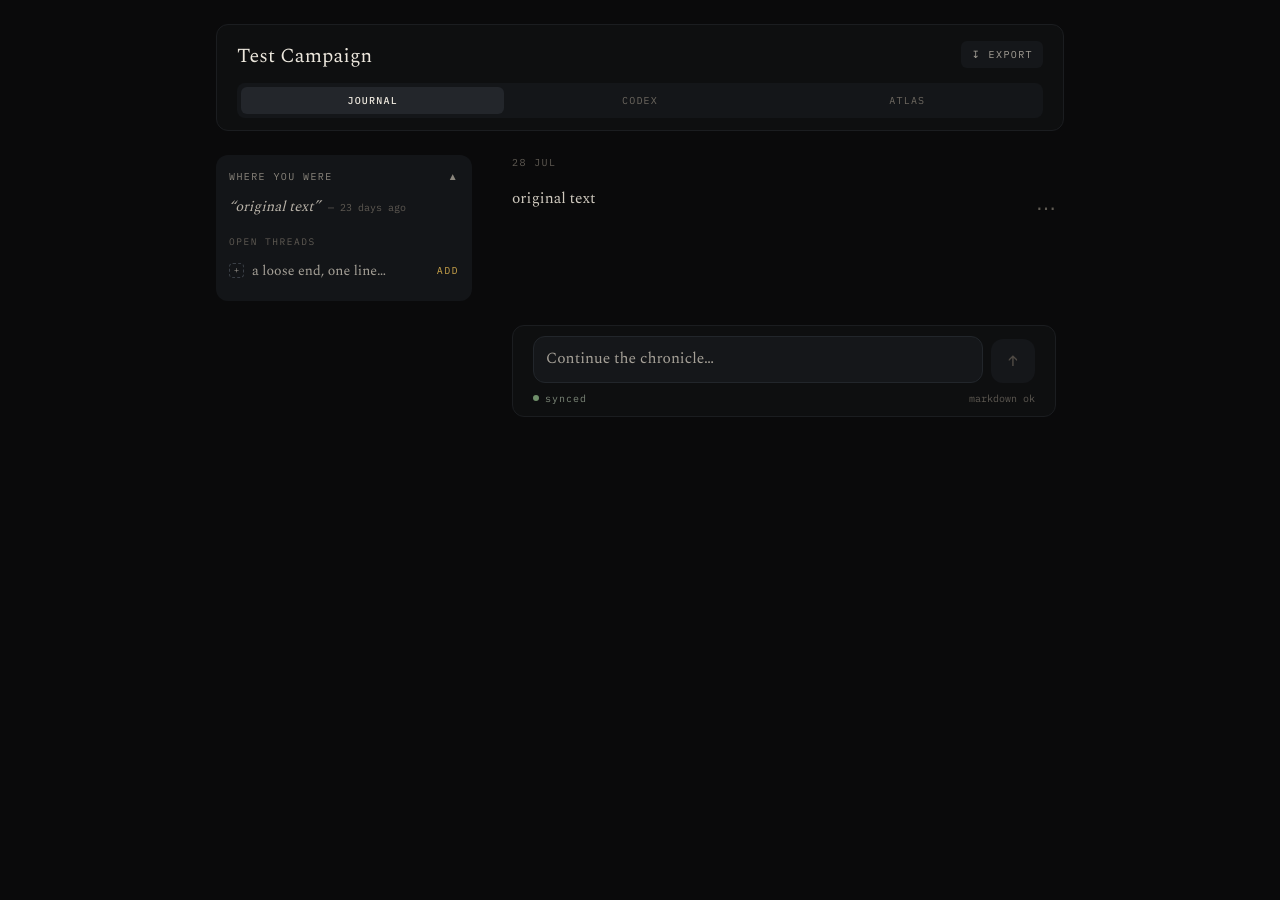
Test: Entry edit — the collision law (Lap 6) › edit save updates content and updated_at, never touches created_at, entry keeps its river position
Expected: the text "original text" is shown, x1=512 y1=187 x2=596 y2=210
Expected: the text "28 JUL" is shown, x1=512 y1=156 x2=556 y2=169
Click the button named "Entry actions": (1046, 208) x1=1024 y1=186 x2=1068 y2=230
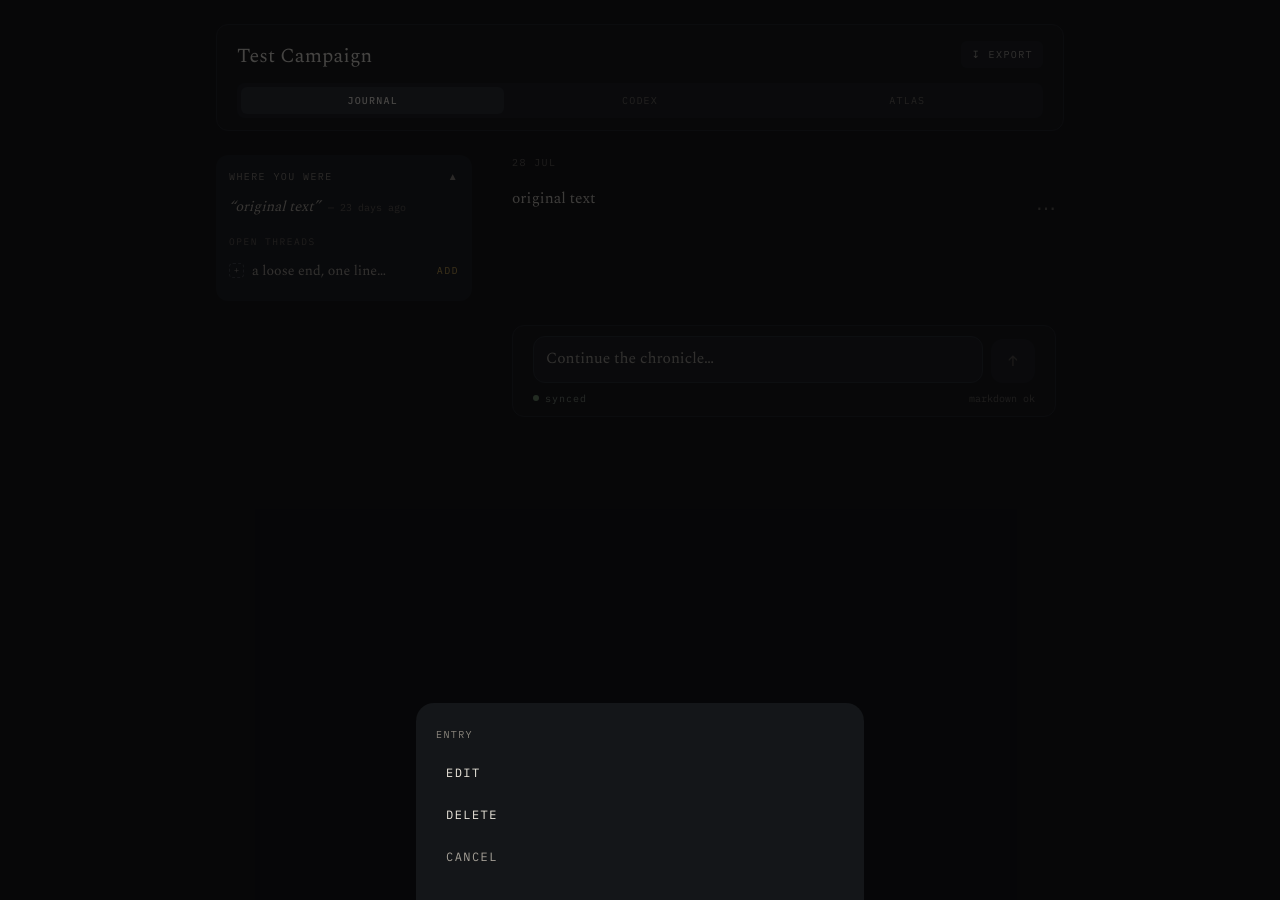
Click the button "Edit": (463, 772) x1=436 y1=754 x2=844 y2=792
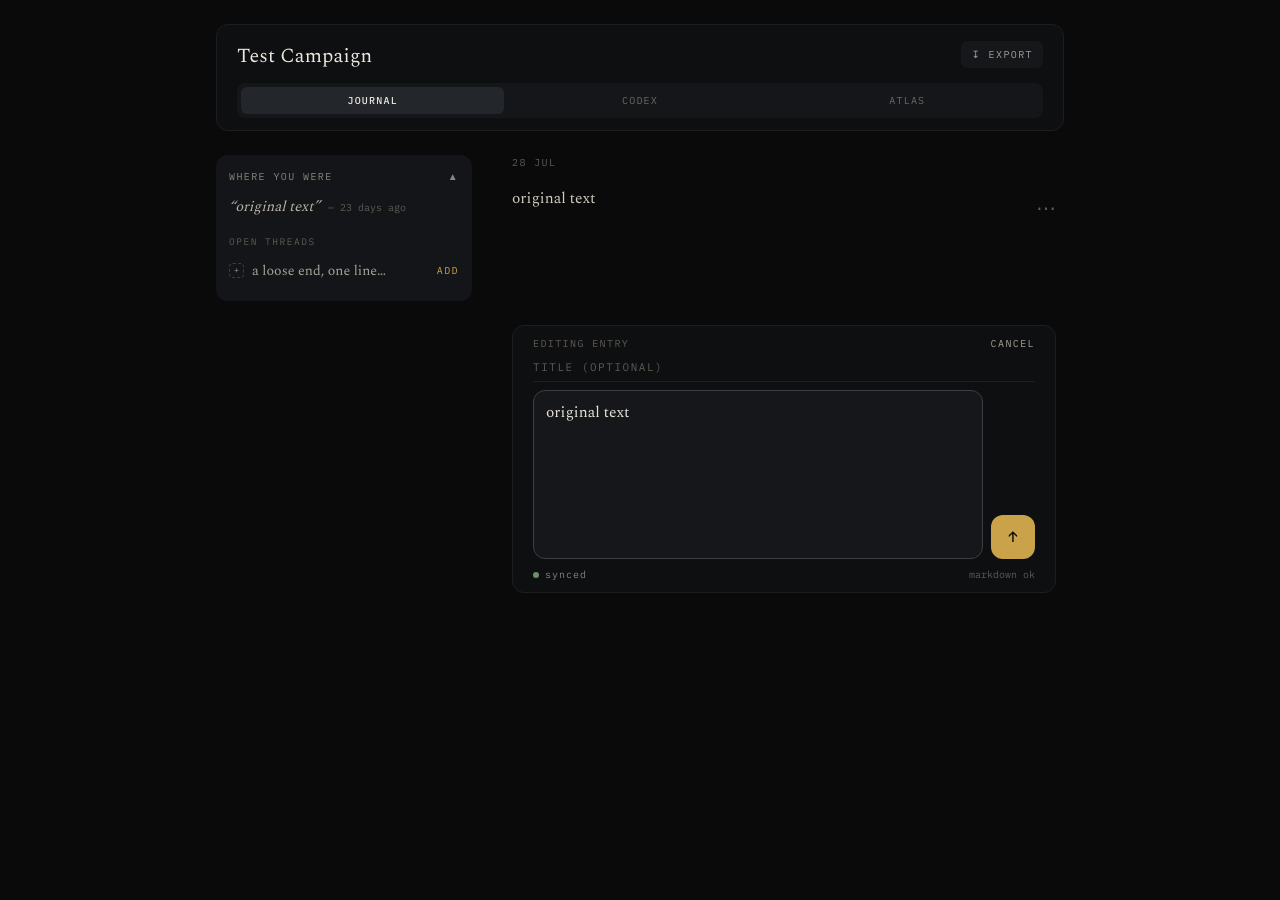
Now the text box with placeholder "Continue the chronicle…" holds "original text"
Replace the text in the text box with placeholder "Continue the chronicle…" with "edited text": (758, 475) x1=533 y1=390 x2=983 y2=559
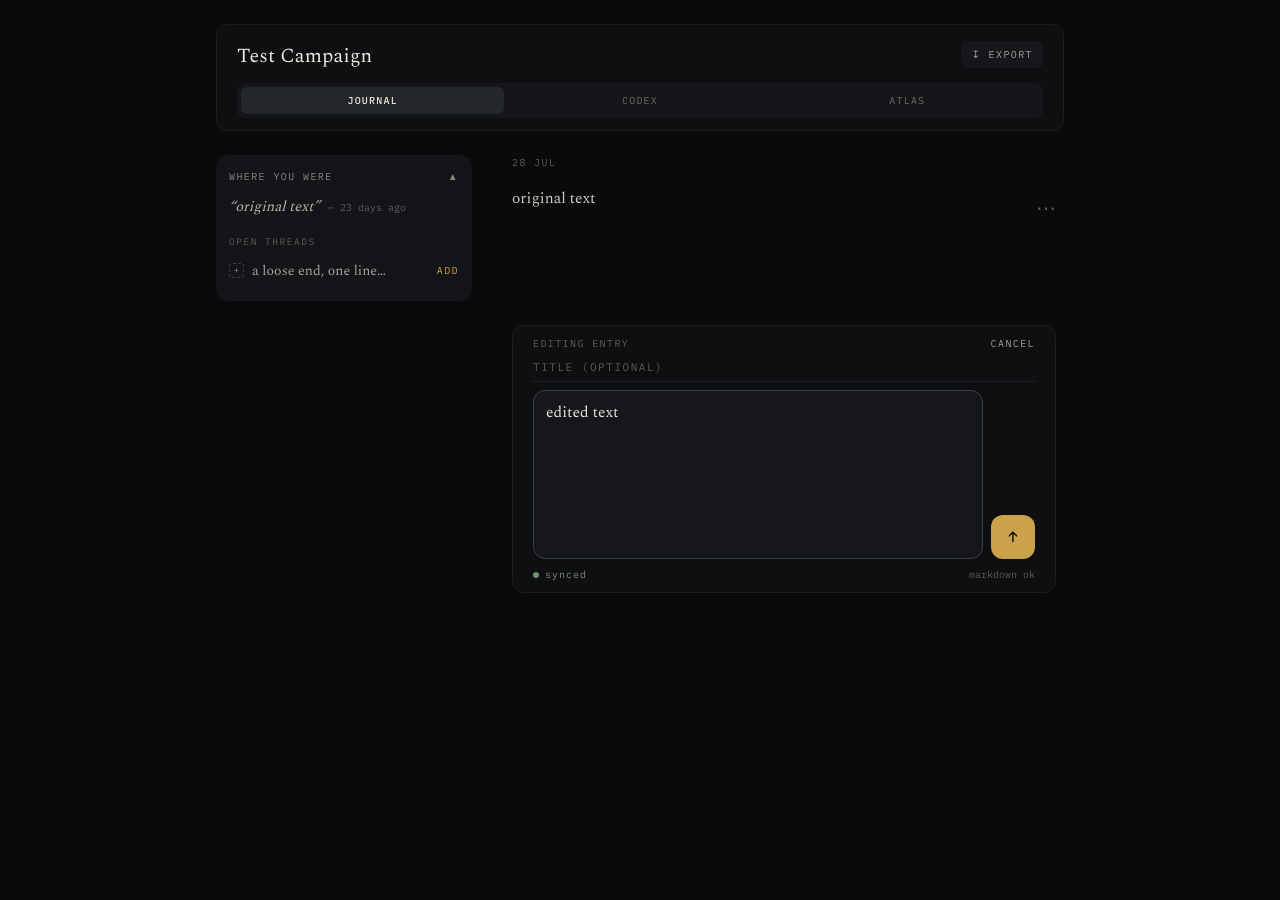
Click the button named "Save edit": (1013, 537) x1=991 y1=515 x2=1035 y2=559
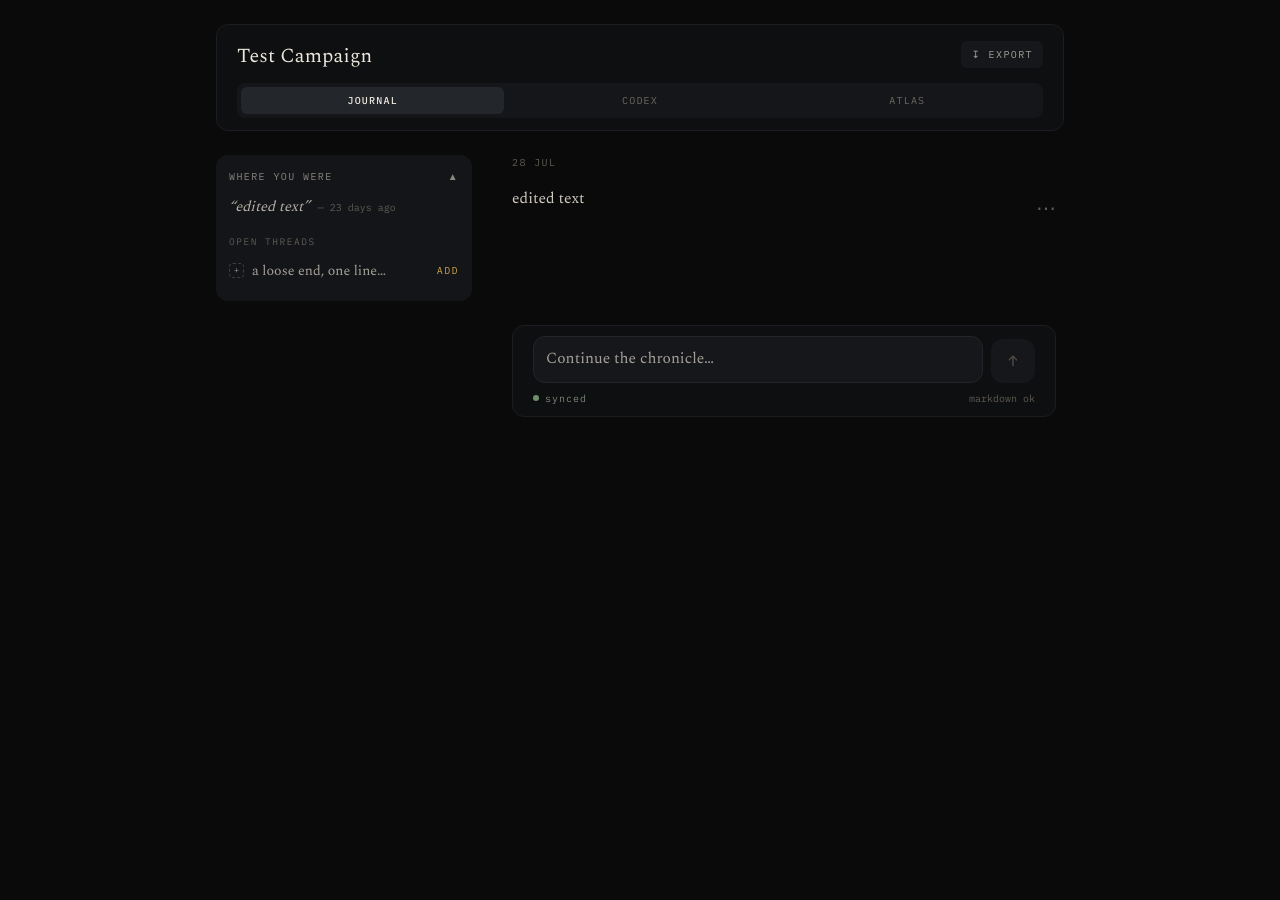
Now the text "edited text" is shown, box x1=512 y1=187 x2=585 y2=210
Now the text "Editing entry" is gone
Now the button named "Save entry" is shown, box x1=991 y1=338 x2=1035 y2=382
